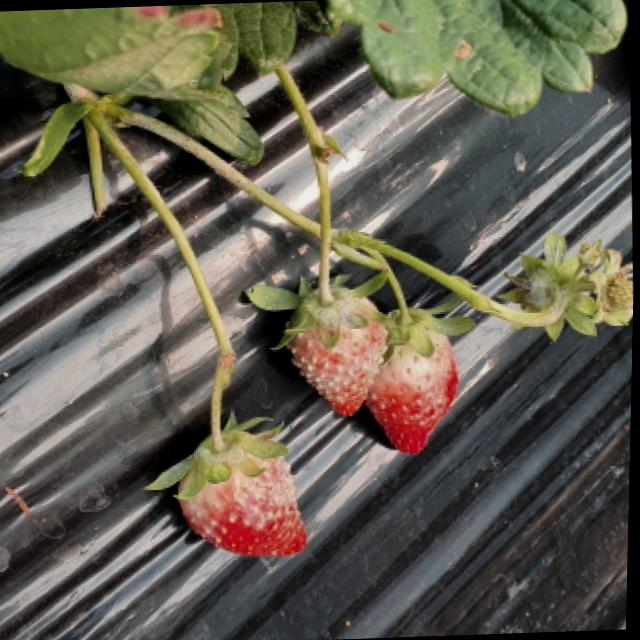Powdery Mildew Fruit: (179, 427, 312, 556), (367, 307, 460, 456), (285, 286, 385, 417)
